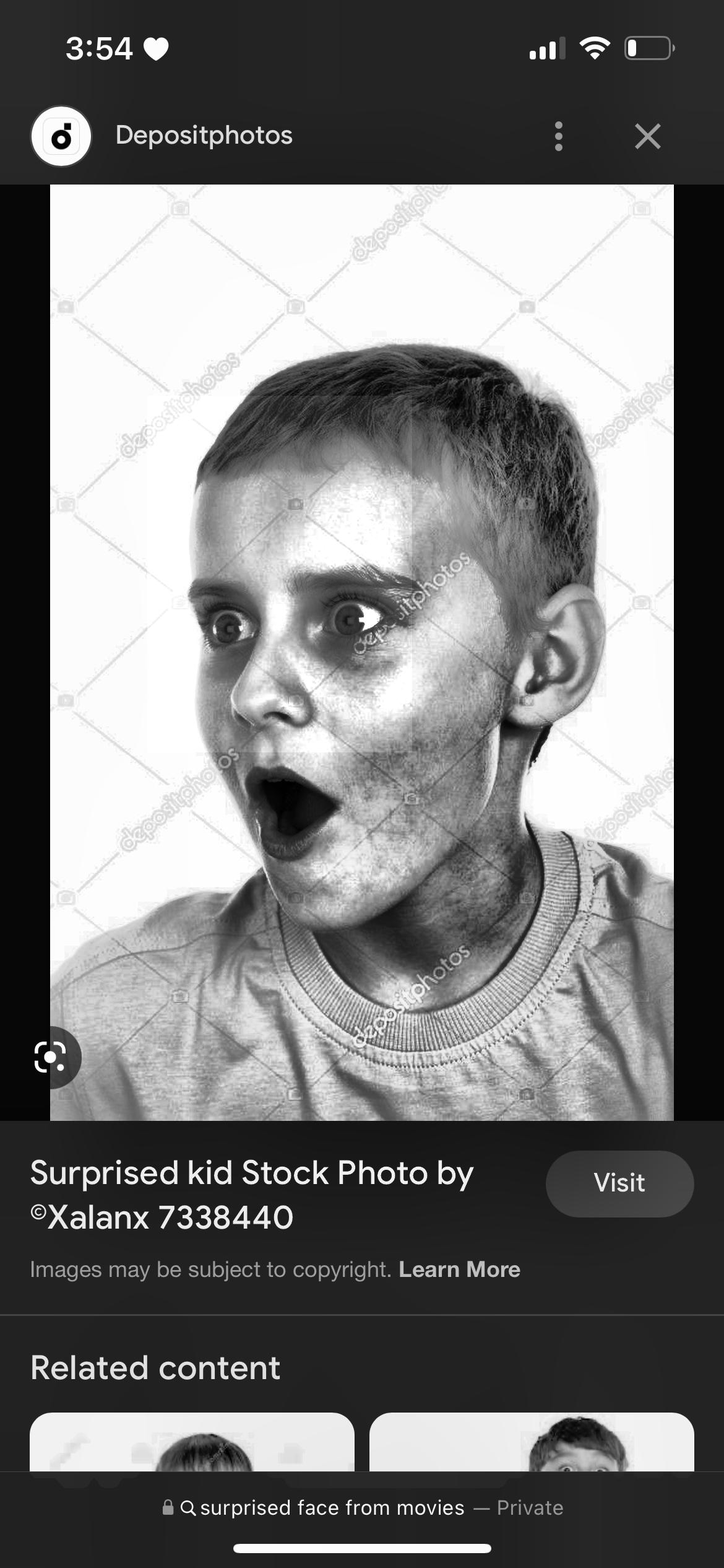surprised: (182, 489, 510, 930)
